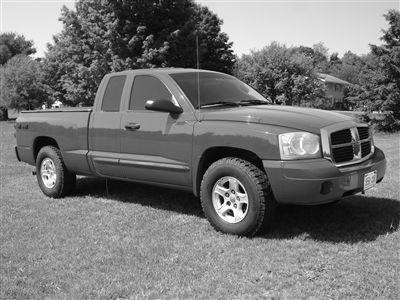car: (15, 70, 385, 236)
